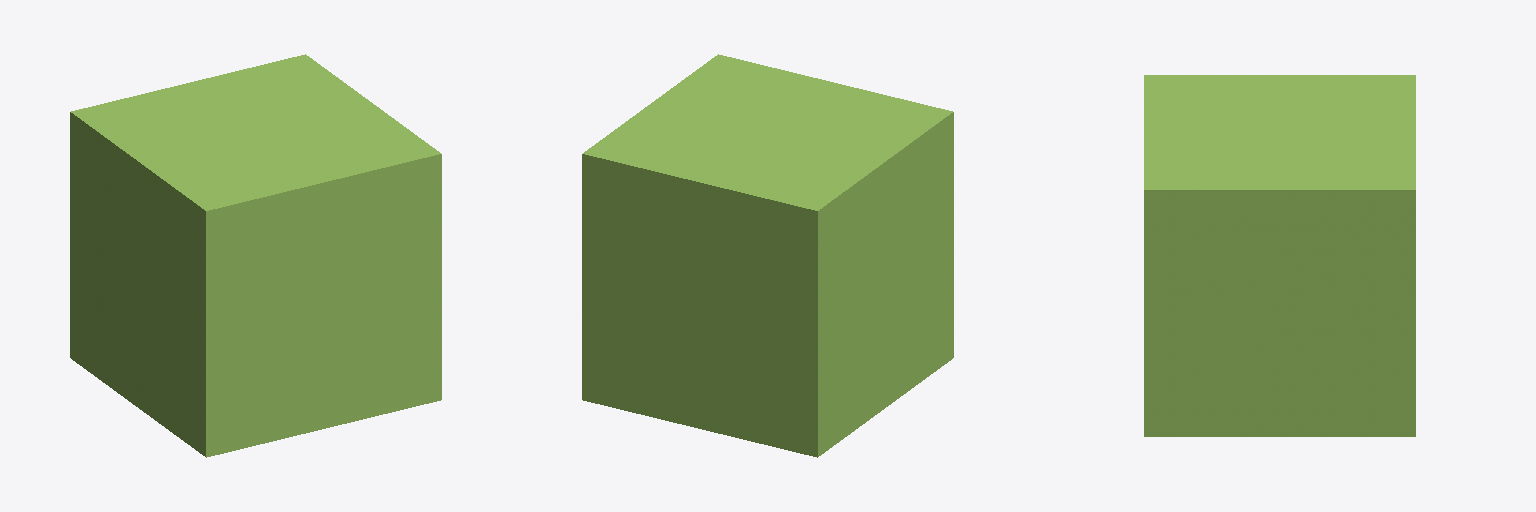
3 renders of one model, left to right at view 1: azimuth 30°, elevation 25°; view 2: azimuth 150°, elevation 25°; view 3: azimuth 270°, elevation 25°, orthographic.
Parts seen in each view (by area): view 1: Cube; view 2: Cube; view 3: Cube.
Part boxes in pixels (x1,y1,x2,y2): Cube: (70, 54, 441, 457); Cube: (582, 54, 953, 457); Cube: (1144, 75, 1415, 436).
Bounding box in the file's own units: 0.065 × 0.065 × 0.065.
Materials: 1 (1 with a texture image).